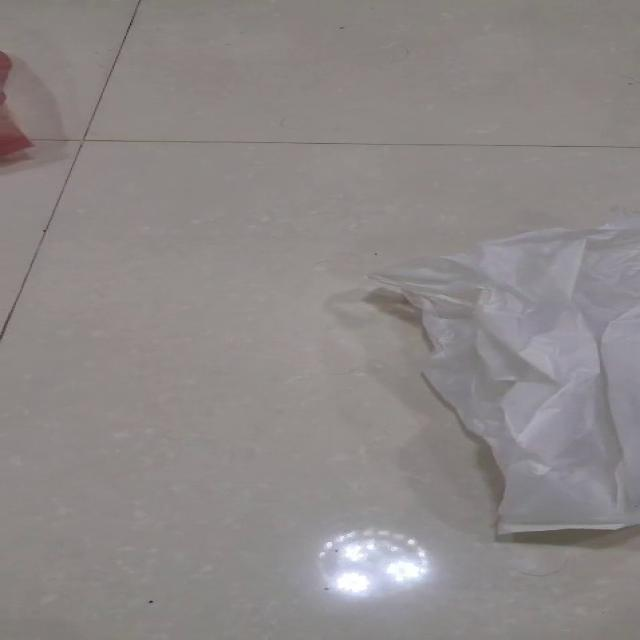plastic: (363, 212, 639, 538)
